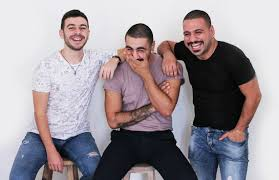middle_eastern_male: (184, 16, 214, 56)
